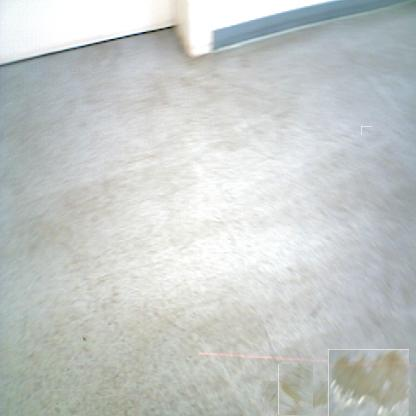liquid: (328, 349, 409, 416), (270, 372, 321, 416)
mark: (361, 126, 372, 135), (80, 335, 88, 343)
